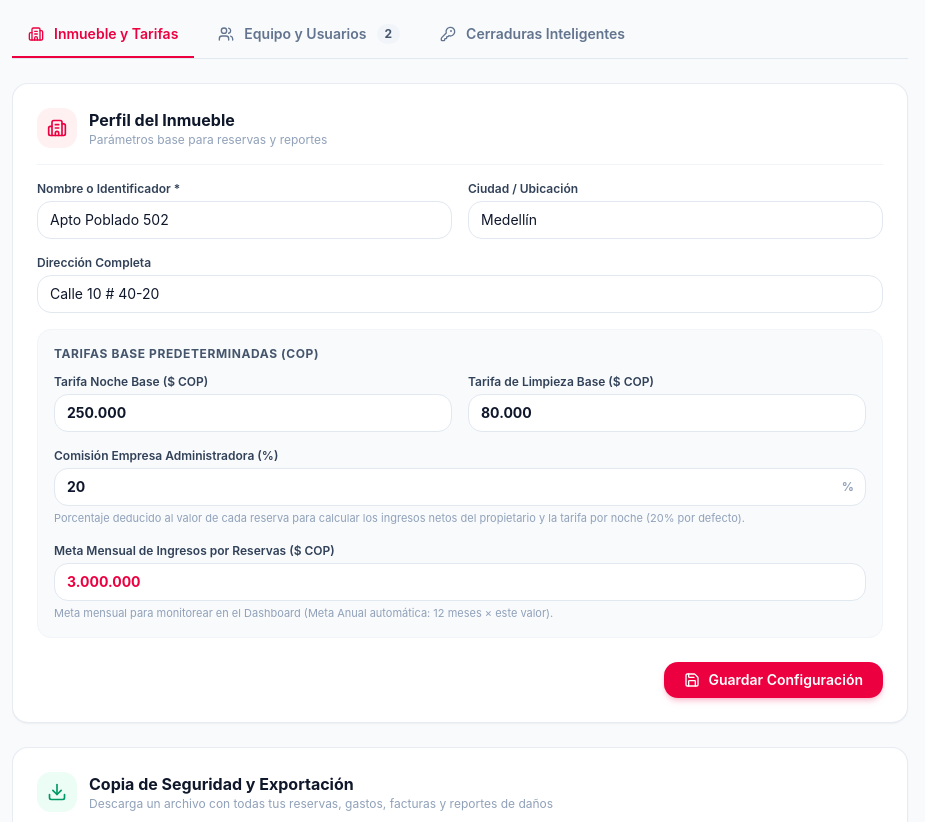
Test: Settings Route - Tabs & Team Management › switches to Equipo y Usuarios tab on click and renders members and invitations
Click the button "Equipo y Usuarios 2".
click(309, 35)  # box [202,12,416,58]
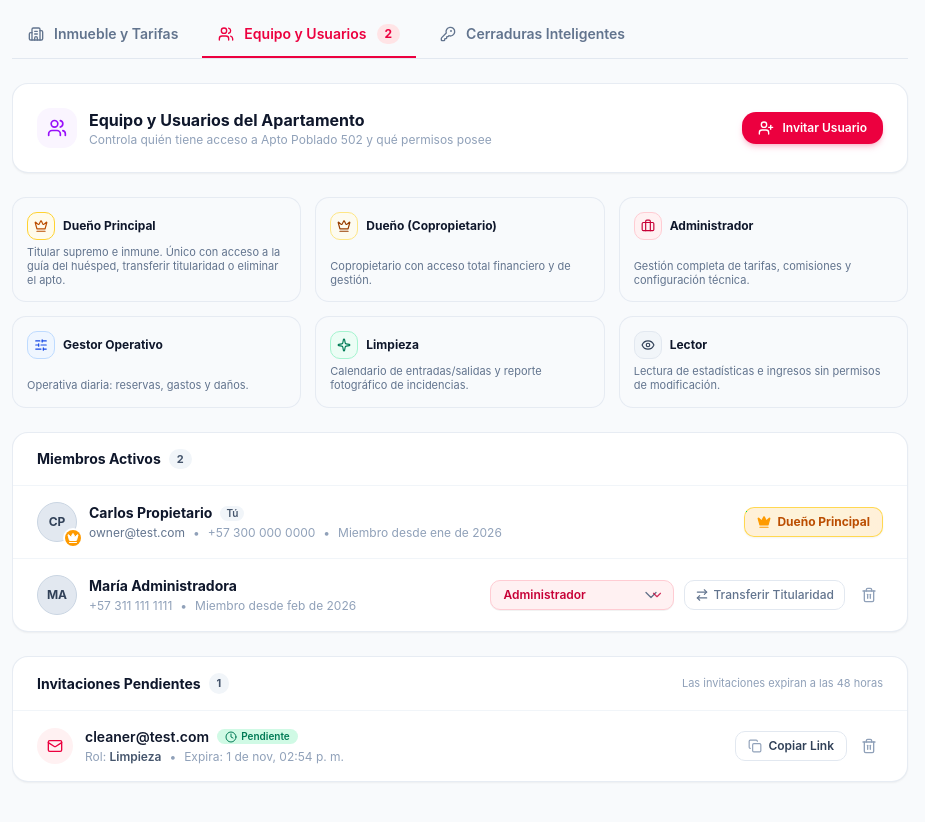
Expected: the heading "Equipo y Usuarios del Apartamento" is shown, [89,110,364,130]
Expected: the text "Carlos Propietario" is shown, [89,503,212,523]
Expected: the text "María Administradora" is shown, [89,576,237,596]
